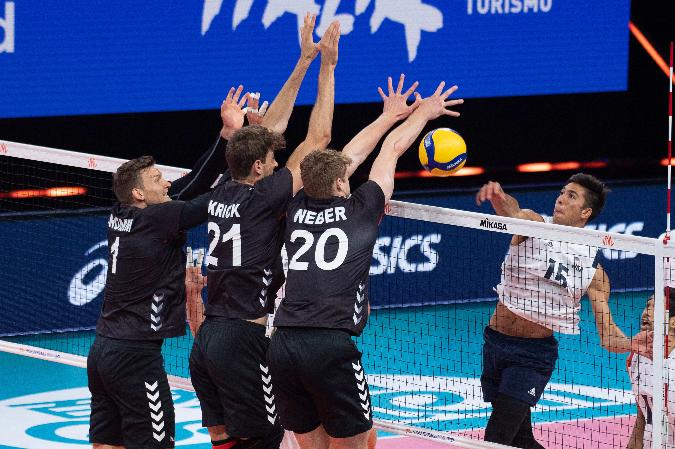ballon_volley: (418, 126, 468, 178)
